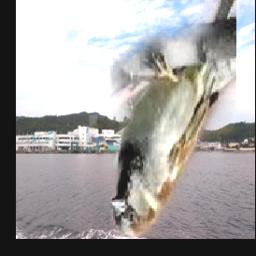Sparrow: (111, 0, 237, 238)
